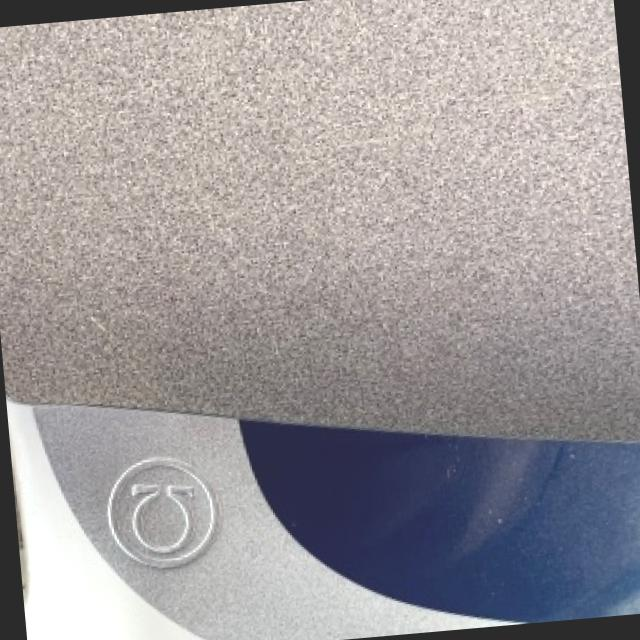healthy: (0, 0, 640, 439), (10, 399, 511, 640)
